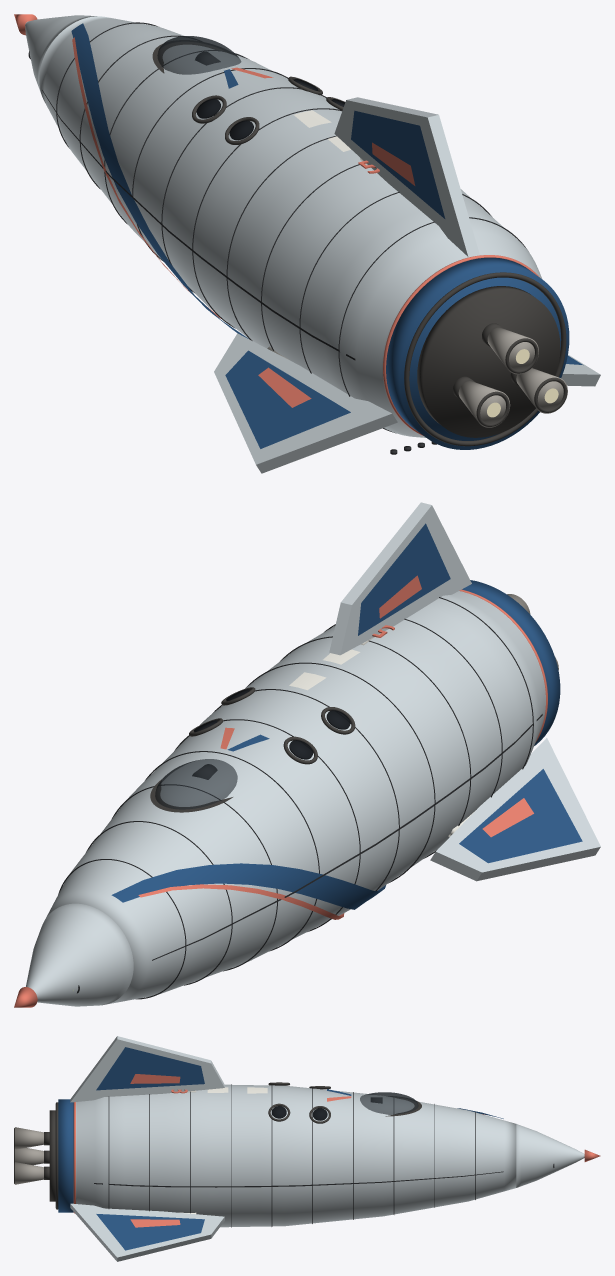
File: Ship_LunarCourier_994899.glb
3 renders of one model, top to bottom at view 1: azimuth 30°, elevation 25°; view 2: azimuth 150°, elevation 25°; view 3: azimuth 270°, elevation 25°, orthographic. The views are drawn at different scales.
Visible parts, largest first — view 1: Fuselage_TaperedPaintedBody, EngineDeck_AftDarkMountPlate, AftCollar_PrimaryEngineBand, TailFin_LeftLower_slender_CreamAerofoil, TailFin_Dorsal_slender_CreamAerofoil, TailFinPanel_LeftLower_PrimarySide_B, TailFinPanel_Dorsal_PrimarySide_A, PaintSpiralSash_PrimarySweep, AftTrimRing_DarkRear, CanopyGlass_DorsalLowInsetDome, NoseCone_PaintedNeedleSection, EngineBell_Upper_BurnishedNozzle (+8 smaller); view 2: Fuselage_TaperedPaintedBody, NoseCone_PaintedNeedleSection, TailFin_LeftLower_slender_CreamAerofoil, TailFin_Dorsal_slender_CreamAerofoil, PaintSpiralSash_PrimarySweep, TailFinPanel_LeftLower_PrimarySide_B, TailFinPanel_Dorsal_PrimarySide_A, CanopyGlass_DorsalLowInsetDome, AftCollar_PrimaryEngineBand, PaintSpiralSash_SecondaryInnerLine, HullLongitudinalSeam_02, TailFinTrimPatch_LeftLower_B; view 3: Fuselage_TaperedPaintedBody, TailFin_Dorsal_slender_CreamAerofoil, TailFin_RightLower_slender_CreamAerofoil, TailFinPanel_Dorsal_PrimarySide_B, NoseCone_PaintedNeedleSection, TailFinPanel_RightLower_PrimarySide_A, AftCollar_PrimaryEngineBand, CanopyGlass_DorsalLowInsetDome, HullLongitudinalSeam_01, EngineDeck_AftDarkMountPlate, EngineBell_RightLower_BurnishedNozzle, EngineBell_Upper_BurnishedNozzle (+4 smaller).
Part boxes in pixels (x1,y1,x2,y2): Fuselage_TaperedPaintedBody: (39, 16, 542, 437); EngineDeck_AftDarkMountPlate: (417, 286, 560, 437); AftCollar_PrimaryEngineBand: (386, 257, 569, 449); TailFin_LeftLower_slender_CreamAerofoil: (214, 333, 397, 473); TailFin_Dorsal_slender_CreamAerofoil: (334, 97, 479, 256); TailFinPanel_LeftLower_PrimarySide_B: (225, 350, 350, 448); TailFinPanel_Dorsal_PrimarySide_A: (351, 110, 445, 218); PaintSpiralSash_PrimarySweep: (71, 23, 248, 338); AftTrimRing_DarkRear: (404, 272, 566, 446); CanopyGlass_DorsalLowInsetDome: (157, 36, 241, 74); NoseCone_PaintedNeedleSection: (25, 15, 96, 91); EngineBell_Upper_BurnishedNozzle: (487, 327, 538, 374); Fuselage_TaperedPaintedBody: (44, 591, 545, 1004); NoseCone_PaintedNeedleSection: (26, 903, 133, 1006); TailFin_LeftLower_slender_CreamAerofoil: (430, 738, 600, 881); TailFin_Dorsal_slender_CreamAerofoil: (329, 502, 471, 655); PaintSpiralSash_PrimarySweep: (111, 863, 385, 909); TailFinPanel_LeftLower_PrimarySide_B: (459, 769, 582, 863); TailFinPanel_Dorsal_PrimarySide_A: (358, 523, 450, 635); CanopyGlass_DorsalLowInsetDome: (155, 759, 237, 809); AftCollar_PrimaryEngineBand: (462, 580, 560, 745); PaintSpiralSash_SecondaryInnerLine: (138, 884, 344, 919); HullLongitudinalSeam_02: (152, 714, 542, 960); TailFinTrimPatch_LeftLower_B: (482, 798, 533, 837); Fuselage_TaperedPaintedBody: (76, 1084, 516, 1227); TailFin_Dorsal_slender_CreamAerofoil: (70, 1036, 224, 1102); TailFin_RightLower_slender_CreamAerofoil: (70, 1203, 224, 1261); TailFinPanel_Dorsal_PrimarySide_B: (96, 1047, 204, 1090); NoseCone_PaintedNeedleSection: (516, 1124, 584, 1187); TailFinPanel_RightLower_PrimarySide_A: (96, 1214, 204, 1250); AftCollar_PrimaryEngineBand: (58, 1099, 73, 1212); CanopyGlass_DorsalLowInsetDome: (360, 1092, 418, 1114); HullLongitudinalSeam_01: (94, 1171, 503, 1187); EngineDeck_AftDarkMountPlate: (49, 1110, 55, 1201); EngineBell_RightLower_BurnishedNozzle: (15, 1162, 43, 1184); EngineBell_Upper_BurnishedNozzle: (15, 1127, 43, 1149).
Size of the model in its own units: 3.33 by 2.95 by 8.5.
